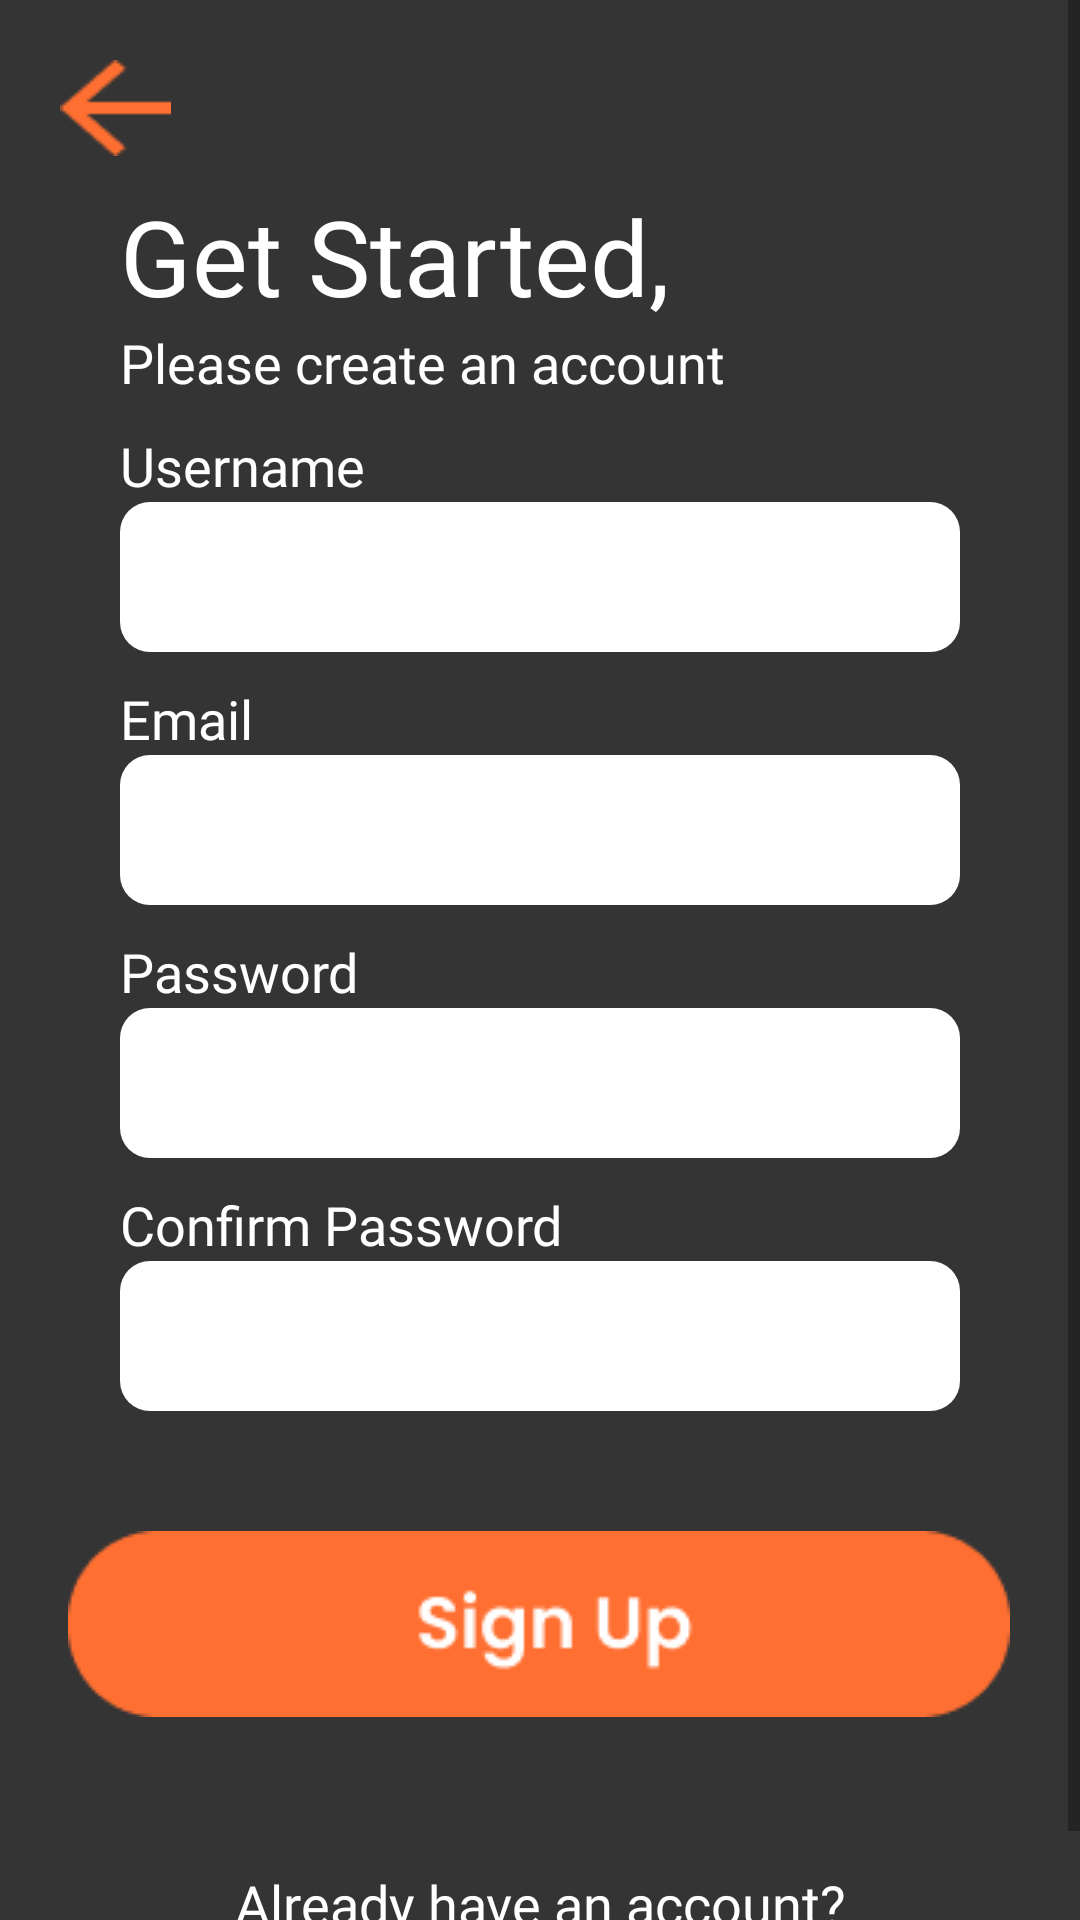

Icon bounding boxes for this 1080×1920 phone screenshot, format (x1,y1,x2,y2):
back: (60,60,171,156)
